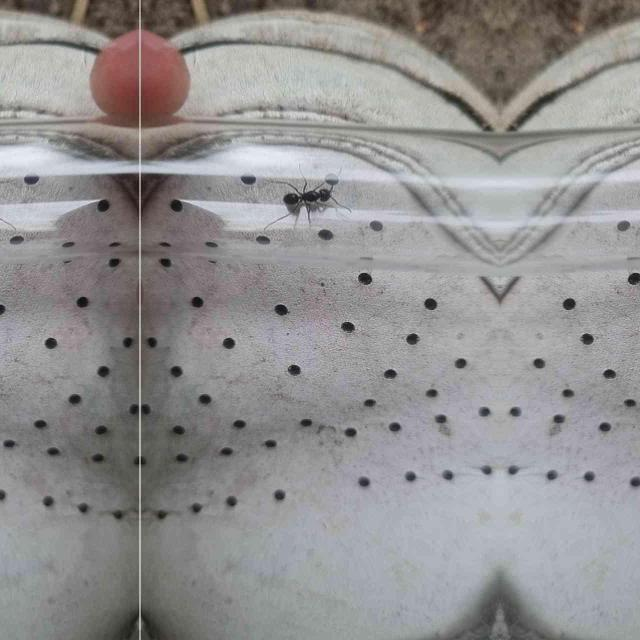Lasius: (282, 179, 336, 213)
